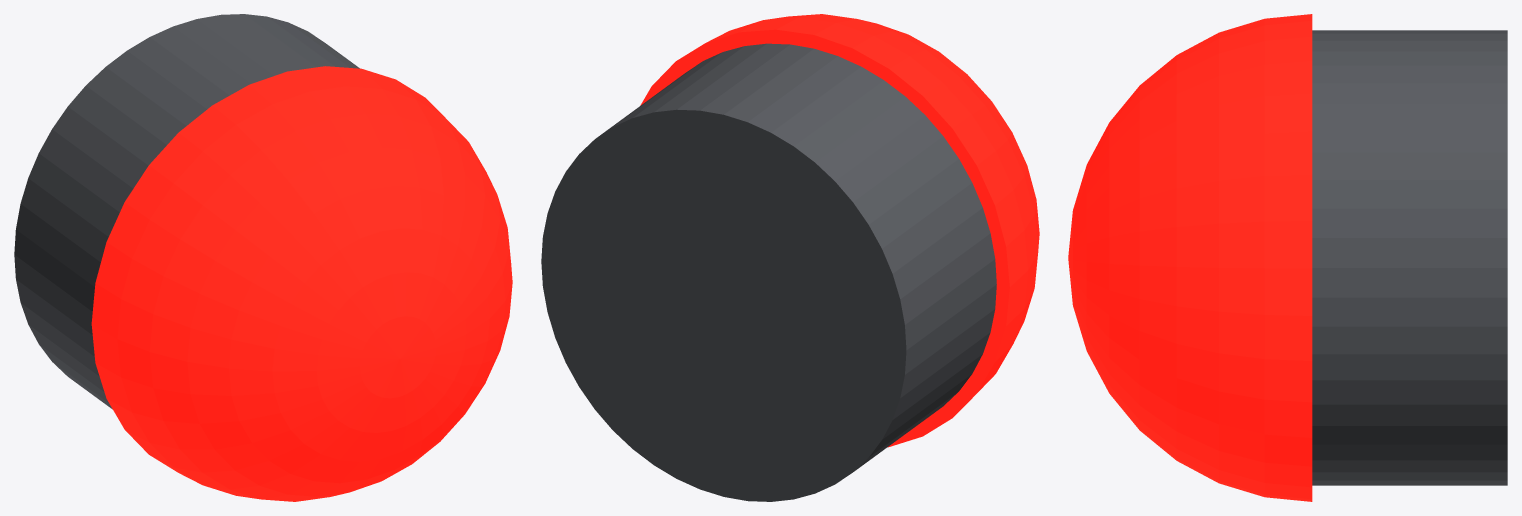
Rendered from aviation_light_ok.glb.
3 views of the same model, side by side, from view 1: azimuth 30°, elevation 25°; view 2: azimuth 150°, elevation 25°; view 3: azimuth 270°, elevation 25° (orthographic). The views are drawn at different scales.
Visible parts, largest first — view 1: aviation_light_ok; view 2: aviation_light_ok; view 3: aviation_light_ok.
Boxes of the visible parts, left/top/right/bottom form: aviation_light_ok: left=14, top=14, right=512, bottom=501; aviation_light_ok: left=541, top=14, right=1039, bottom=501; aviation_light_ok: left=1068, top=14, right=1507, bottom=501.
Bounding box in the file's own units: 0.15 × 0.15 × 0.135.
